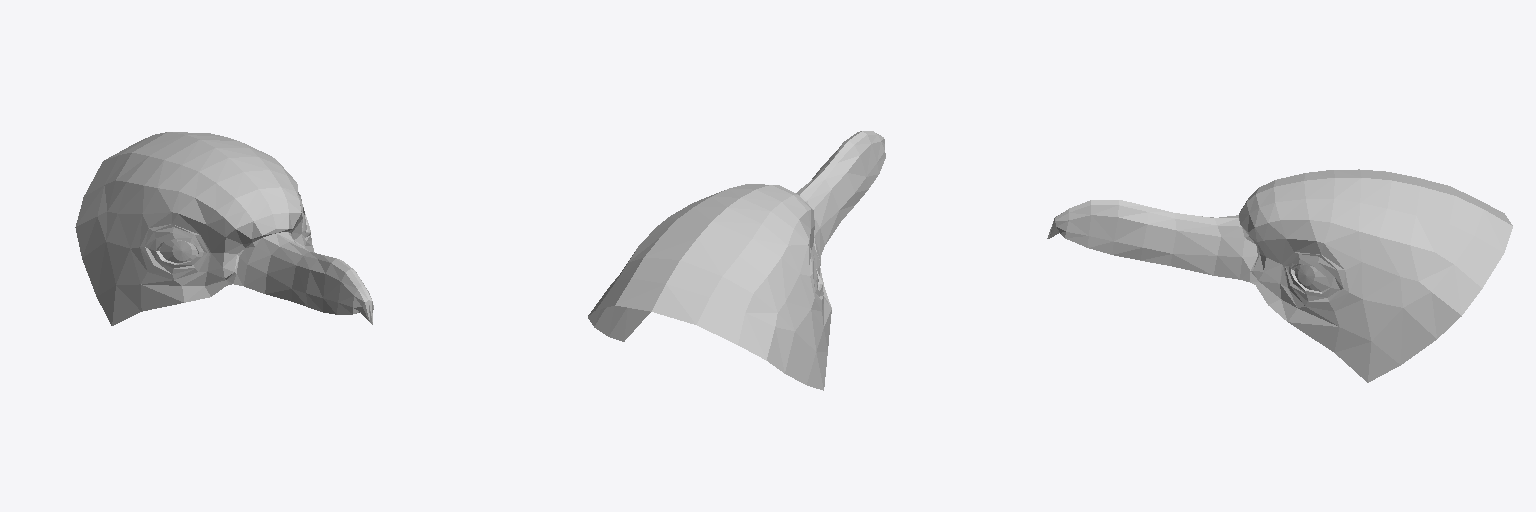
The model's file is f_head.obj.
3 renders of one model, left to right at view 1: azimuth 30°, elevation 25°; view 2: azimuth 150°, elevation 25°; view 3: azimuth 270°, elevation 25°, orthographic.
Parts seen in each view (by area): view 1: Animal.005; view 2: Animal.005; view 3: Animal.005.
Boxes of the visible parts, x1=… form: Animal.005: x1=75, y1=132, x2=373, y2=325; Animal.005: x1=588, y1=131, x2=885, y2=390; Animal.005: x1=1047, y1=169, x2=1512, y2=382.
Size of the model in its own units: 1.17 by 0.8736 by 2.36.